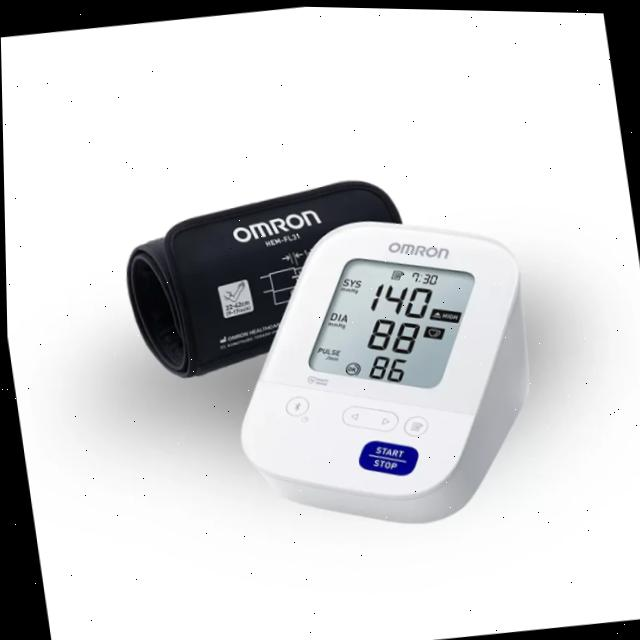dia: (347, 305, 421, 360)
pul: (354, 343, 412, 390)
ssd: (304, 251, 476, 391)
sys: (354, 275, 434, 318)
